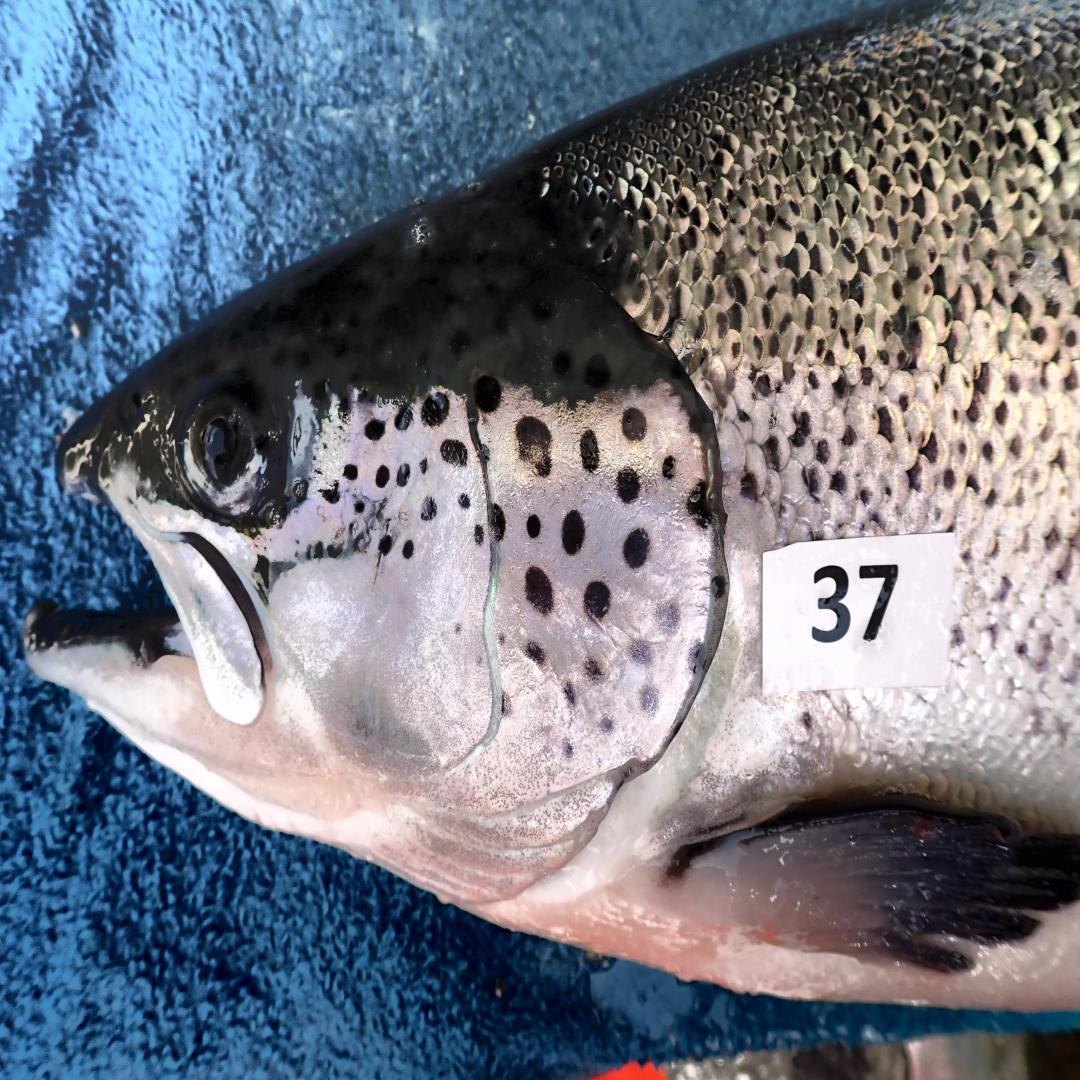spot: (515, 416, 551, 475), (525, 565, 553, 616), (686, 481, 713, 529), (622, 529, 650, 568), (584, 582, 612, 619), (561, 509, 584, 554), (475, 377, 502, 413), (656, 599, 681, 636), (422, 394, 449, 428), (616, 467, 641, 503), (470, 425, 489, 472), (622, 408, 648, 442), (580, 430, 599, 472), (441, 439, 468, 467), (629, 638, 654, 667), (639, 683, 660, 714), (689, 641, 708, 674), (491, 503, 506, 540), (525, 641, 546, 667), (561, 678, 578, 709), (365, 419, 386, 442), (584, 658, 603, 683), (394, 405, 413, 430), (378, 532, 397, 557), (319, 482, 340, 504), (500, 686, 513, 720), (599, 714, 616, 737), (561, 737, 576, 762), (375, 464, 390, 489), (420, 498, 437, 520), (662, 456, 677, 478), (527, 515, 542, 537), (397, 464, 411, 487), (712, 575, 725, 599), (327, 541, 344, 558), (475, 523, 487, 546), (496, 627, 508, 650), (312, 540, 325, 560), (344, 464, 359, 481), (458, 492, 470, 509), (403, 540, 413, 560), (354, 501, 365, 515), (454, 622, 464, 636), (420, 458, 428, 472), (306, 546, 312, 560), (489, 532, 494, 537)
